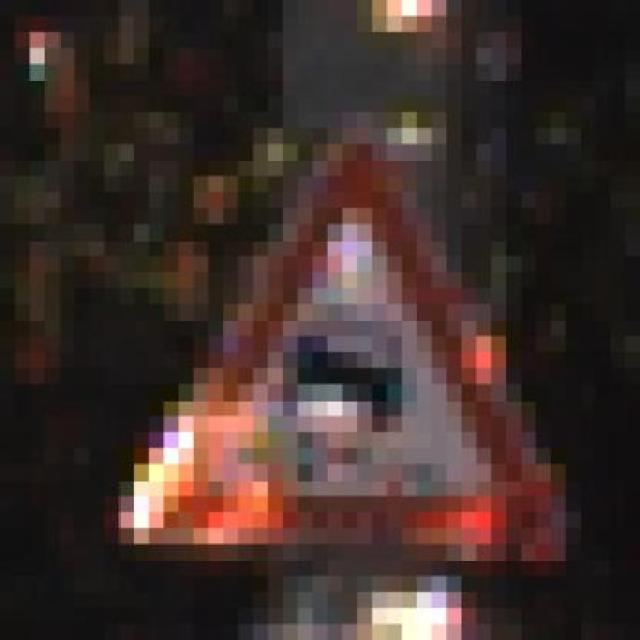Slippery Road Ahead: (109, 115, 571, 579)
